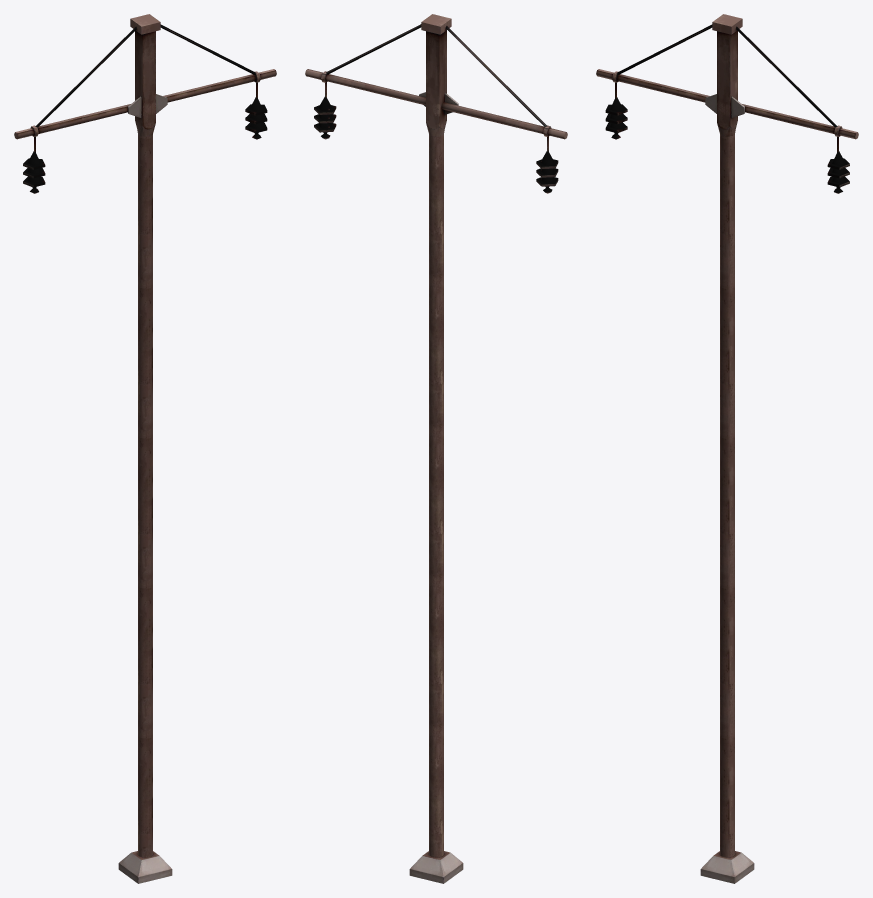
3 views of the same model, side by side, from view 1: azimuth 30°, elevation 25°; view 2: azimuth 150°, elevation 25°; view 3: azimuth 330°, elevation 25° (orthographic).
Visible parts, largest first — view 1: body0_model0_lod0_mesh0; view 2: body0_model0_lod0_mesh0; view 3: body0_model0_lod0_mesh0.
Boxes of the visible parts, x1=… form: body0_model0_lod0_mesh0: x1=14, y1=14, x2=276, y2=883; body0_model0_lod0_mesh0: x1=305, y1=14, x2=567, y2=883; body0_model0_lod0_mesh0: x1=596, y1=14, x2=858, y2=883.
Size of the model in its own units: 224 by 704 by 29.31.
Materials: 1 (1 with a texture image).
